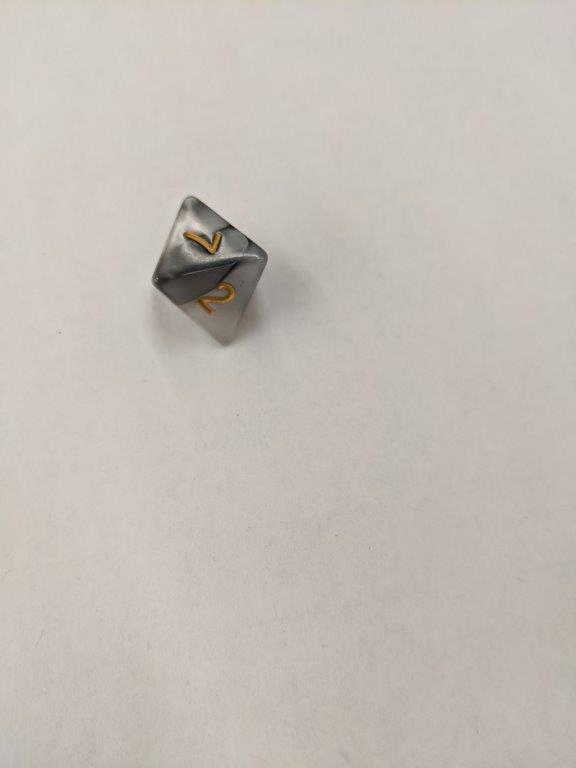d8-7: (154, 195, 270, 344)
